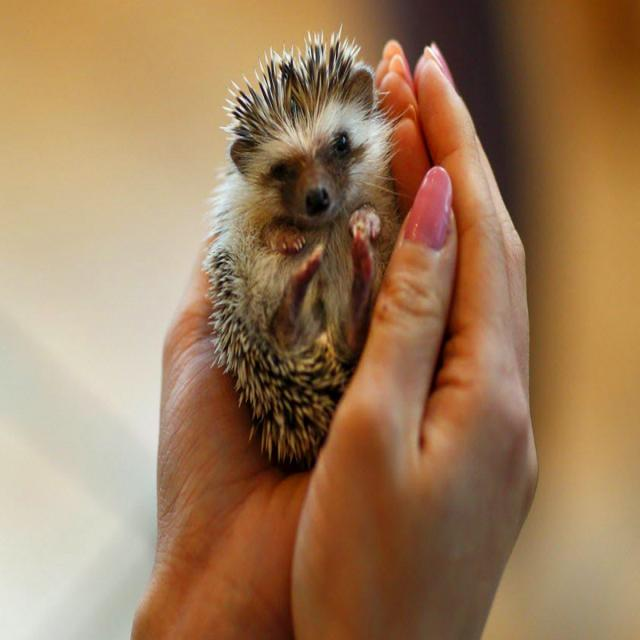hedgehog: (204, 34, 402, 470)
